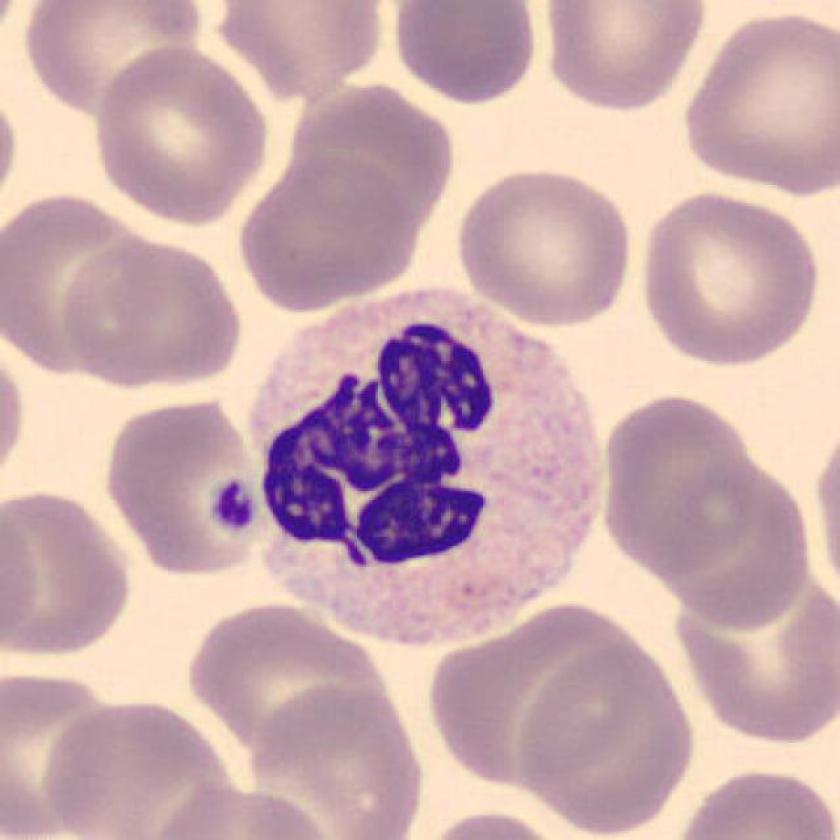neutrophil: (252, 298, 605, 650)
